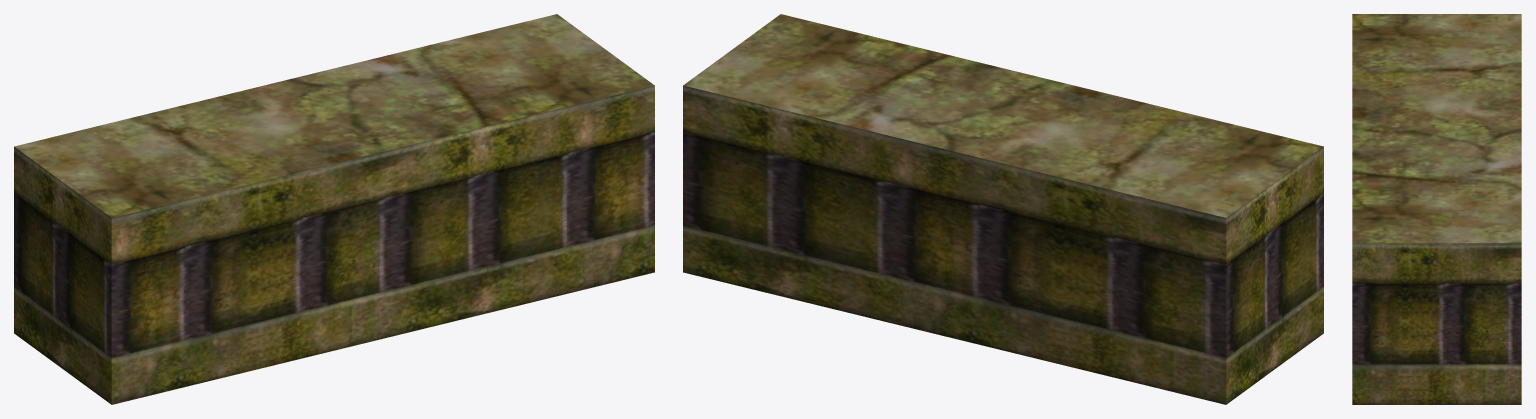
File: OVERHILL_A_01_LINE206.fbx
3 renders of one model, left to right at view 1: azimuth 30°, elevation 25°; view 2: azimuth 150°, elevation 25°; view 3: azimuth 270°, elevation 25°, orthographic. The views are drawn at different scales.
Parts seen in each view (by area): view 1: OVERHILL_A_01_LINE206; view 2: OVERHILL_A_01_LINE206; view 3: OVERHILL_A_01_LINE206.
Part boxes in pixels (x1,y1,x2,y2): OVERHILL_A_01_LINE206: (14,14,654,404); OVERHILL_A_01_LINE206: (683,14,1323,404); OVERHILL_A_01_LINE206: (1352,14,1521,404).
Size of the model in its own units: 23912 by 7866 by 7452.
2 materials, 2 textured.
